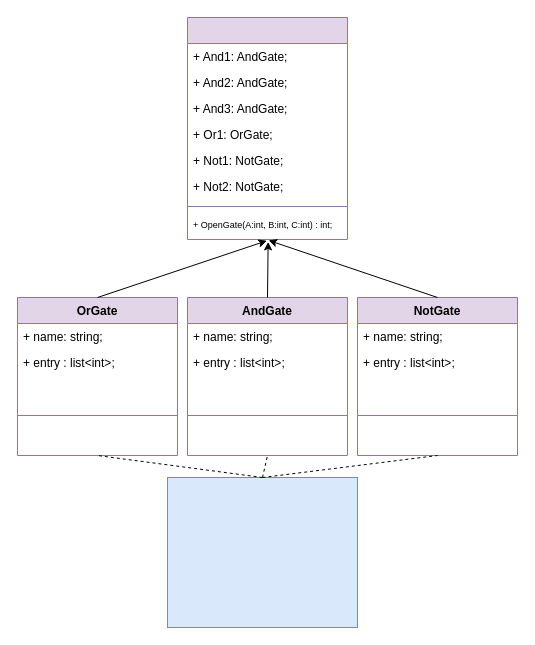
The diagram is 535 pixels wide and 645 high, and some of its shapes have lost their labels. Here are the shapes that lost their labels. From the top down, the box of each, then its label:
(186, 16, 348, 240): GarajeGate
(166, 476, 358, 628): <<Interface>> ILogicGate + Calculate(): int; + AddEntry(): void;
